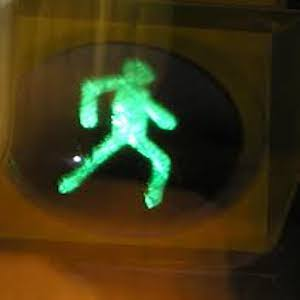green: (49, 46, 180, 219)
